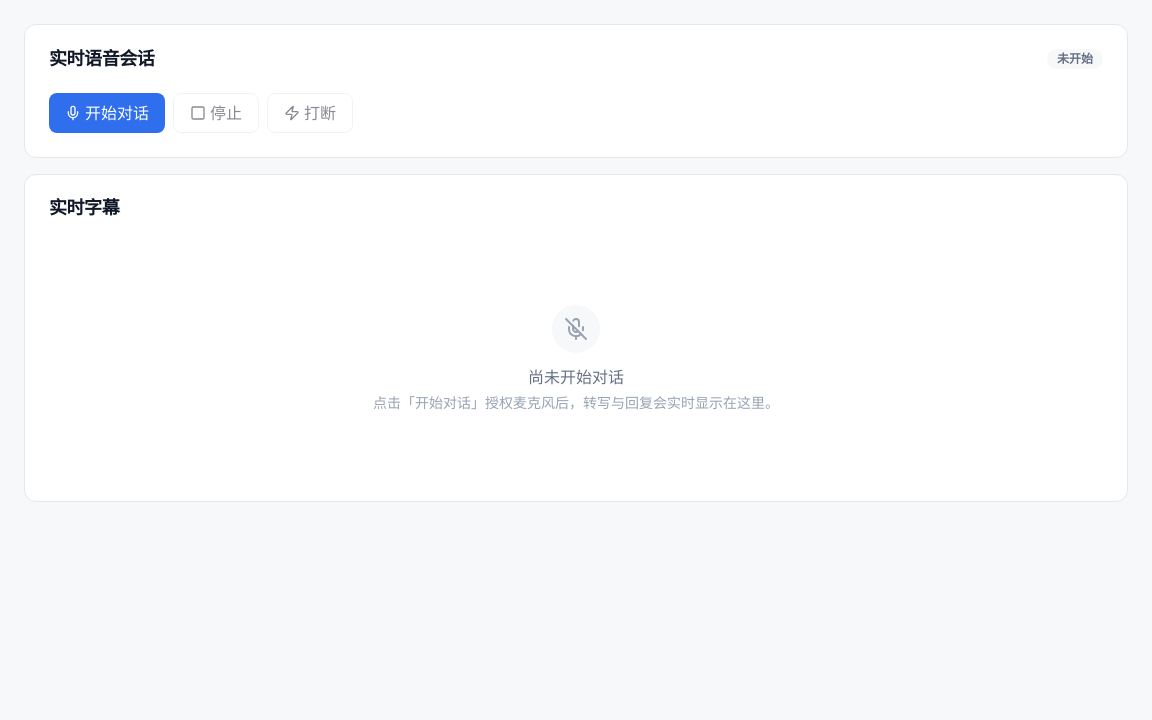
Test case: RealtimeVoicePage › 播放错误回调展示提示条
Click the button "开始对话". click: (107, 113)
box: [49,93,165,133]
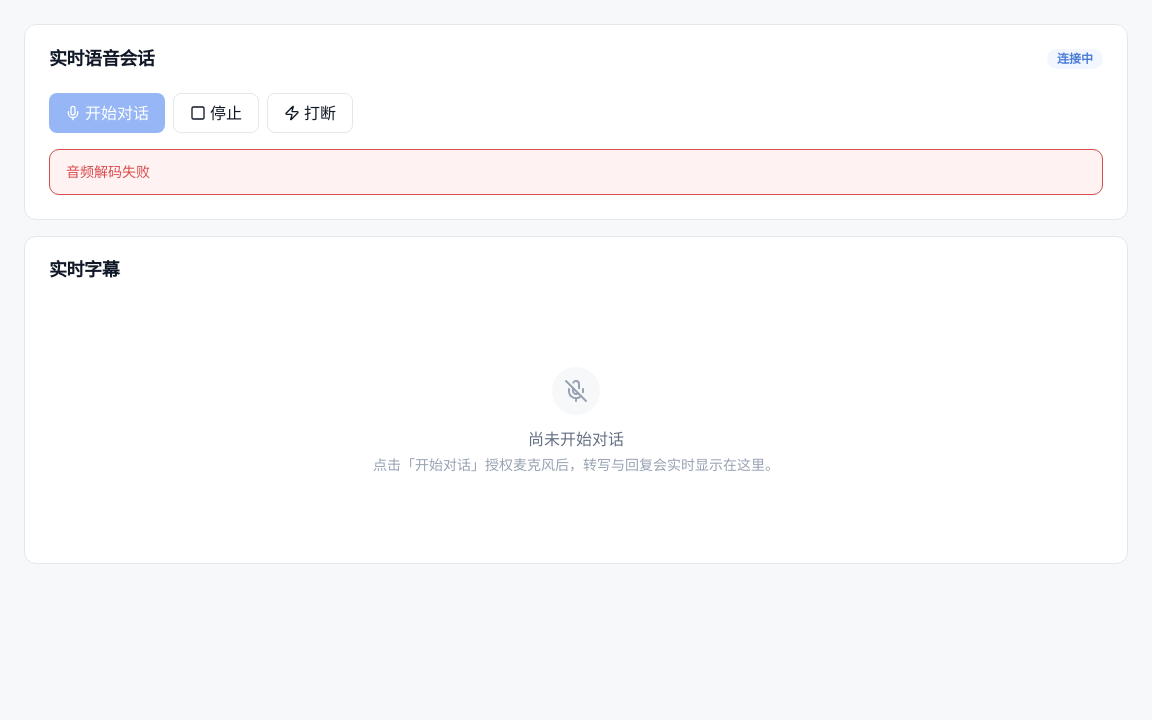
Check: the text "音频解码失败" is shown, box [66,163,150,180]
